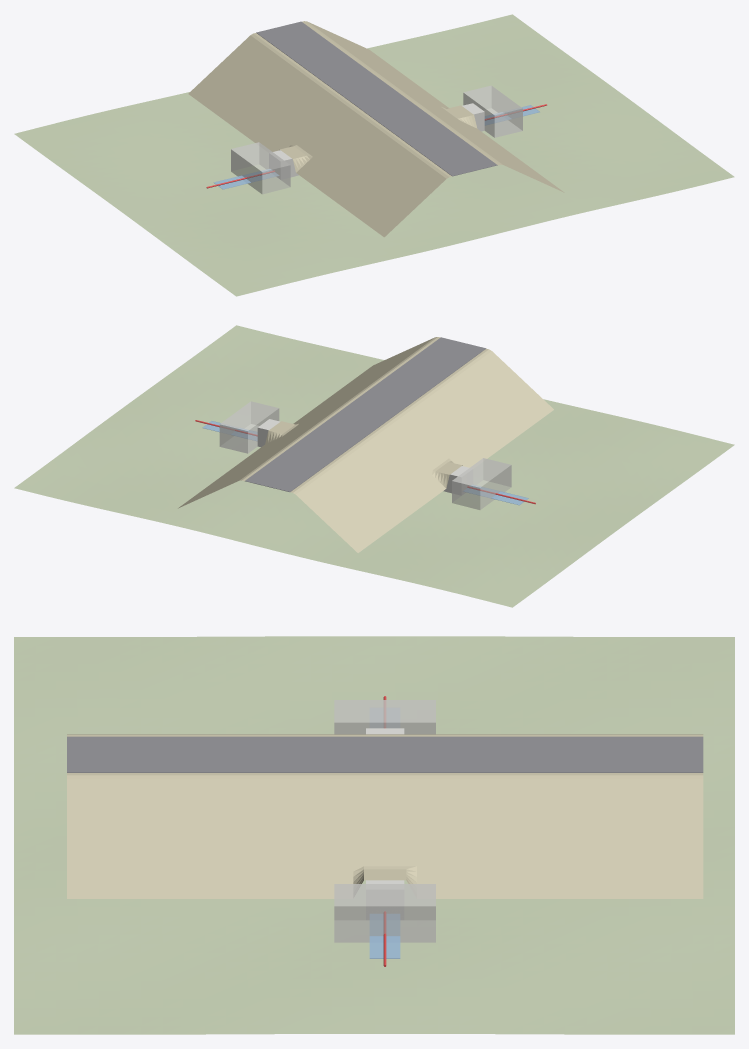
3 renders of one model, top to bottom at view 1: azimuth 30°, elevation 25°; view 2: azimuth 150°, elevation 25°; view 3: azimuth 270°, elevation 25°, orthographic. The views are drawn at different scales.
Visible parts, largest first — view 1: 地形|現況地形 (参考), 土工|道路盛土 (参考, 天端幅9.5m H=5.0m 法1:1.5), 道路|道路舗装 (参考), 翼壁|翼壁 概形 (上流), 翼壁|翼壁 概形 (下流), 本体|ボックス本体 (外形一体, 内空なし), 地形|水面 (参考); view 2: 地形|現況地形 (参考), 土工|道路盛土 (参考, 天端幅9.5m H=5.0m 法1:1.5), 道路|道路舗装 (参考), 翼壁|翼壁 概形 (上流), 翼壁|翼壁 概形 (下流), 本体|ボックス本体 (外形一体, 内空なし), 地形|水面 (参考); view 3: 地形|現況地形 (参考), 土工|道路盛土 (参考, 天端幅9.5m H=5.0m 法1:1.5), 道路|道路舗装 (参考), 翼壁|翼壁 概形 (下流), 翼壁|翼壁 概形 (上流), 本体|ボックス本体 (外形一体, 内空なし), 地形|水面 (参考).
Part boxes in pixels (left/top/right/bottom): 地形|現況地形 (参考): left=14, top=14, right=734, bottom=296; 土工|道路盛土 (参考, 天端幅9.5m H=5.0m 法1:1.5): left=188, top=21, right=564, bottom=237; 道路|道路舗装 (参考): left=256, top=21, right=497, bottom=176; 翼壁|翼壁 概形 (上流): left=231, top=142, right=290, bottom=194; 翼壁|翼壁 概形 (下流): left=463, top=85, right=522, bottom=137; 本体|ボックス本体 (外形一体, 内空なし): left=269, top=103, right=484, bottom=179; 地形|水面 (参考): left=213, top=105, right=539, bottom=189; 地形|現況地形 (参考): left=14, top=325, right=734, bottom=607; 土工|道路盛土 (参考, 天端幅9.5m H=5.0m 法1:1.5): left=178, top=337, right=553, bottom=552; 道路|道路舗装 (参考): left=245, top=337, right=485, bottom=491; 翼壁|翼壁 概形 (上流): left=452, top=458, right=511, bottom=509; 翼壁|翼壁 概形 (下流): left=219, top=401, right=279, bottom=453; 本体|ボックス本体 (外形一体, 内空なし): left=257, top=419, right=472, bottom=495; 地形|水面 (参考): left=202, top=421, right=528, bottom=505; 地形|現況地形 (参考): left=14, top=636, right=734, bottom=1034; 土工|道路盛土 (参考, 天端幅9.5m H=5.0m 法1:1.5): left=67, top=734, right=703, bottom=898; 道路|道路舗装 (参考): left=67, top=736, right=703, bottom=772; 翼壁|翼壁 概形 (下流): left=334, top=884, right=435, bottom=942; 翼壁|翼壁 概形 (上流): left=334, top=700, right=435, bottom=734; 本体|ボックス本体 (外形一体, 内空なし): left=366, top=728, right=404, bottom=919; 地形|水面 (参考): left=369, top=914, right=400, bottom=958.
Size of the model in its own units: 88 by 9.14 by 68.
